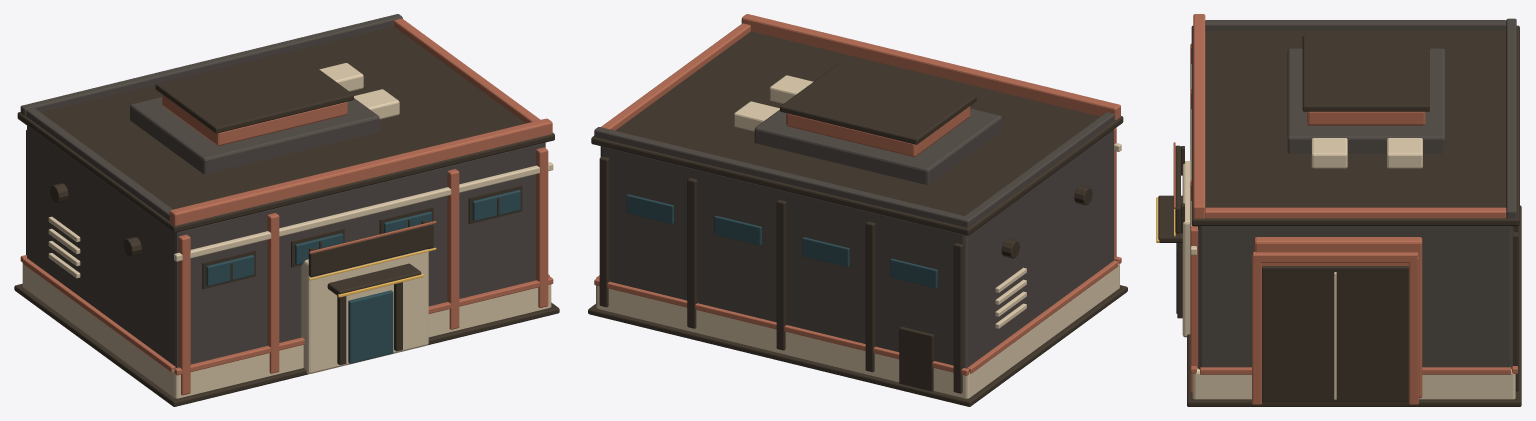
Rendered from SilverScreen_SoundStage1.fbx.
3 views of the same model, side by side, from view 1: azimuth 30°, elevation 25°; view 2: azimuth 150°, elevation 25°; view 3: azimuth 270°, elevation 25° (orthographic). The views are drawn at different scales.
Parts seen in each view (by area): view 1: Stage1_Roof, Stage1_Body, Stage1_Trim, Stage1_Sign, Stage1_Windows, Stage1_Doors; view 2: Stage1_Body, Stage1_Roof, Stage1_Trim, Stage1_Windows, Stage1_Doors; view 3: Stage1_Roof, Stage1_Body, Stage1_Doors, Stage1_Trim, Stage1_Sign.
Boxes of the visible parts, x1,y1,x2,y2 form: Stage1_Roof: [17, 14, 554, 232]; Stage1_Body: [14, 126, 559, 406]; Stage1_Trim: [20, 130, 553, 395]; Stage1_Sign: [308, 220, 436, 280]; Stage1_Windows: [206, 190, 520, 286]; Stage1_Doors: [348, 290, 393, 363]; Stage1_Body: [588, 129, 1127, 406]; Stage1_Roof: [591, 14, 1123, 235]; Stage1_Trim: [594, 128, 1121, 393]; Stage1_Windows: [626, 194, 937, 288]; Stage1_Doors: [899, 326, 934, 391]; Stage1_Roof: [1191, 14, 1519, 226]; Stage1_Body: [1182, 161, 1521, 406]; Stage1_Doors: [1176, 243, 1408, 402]; Stage1_Trim: [1156, 43, 1518, 404]; Stage1_Sign: [1173, 142, 1184, 236].
Bounding box in the file's own units: 16.54 × 8.57 × 12.6.
